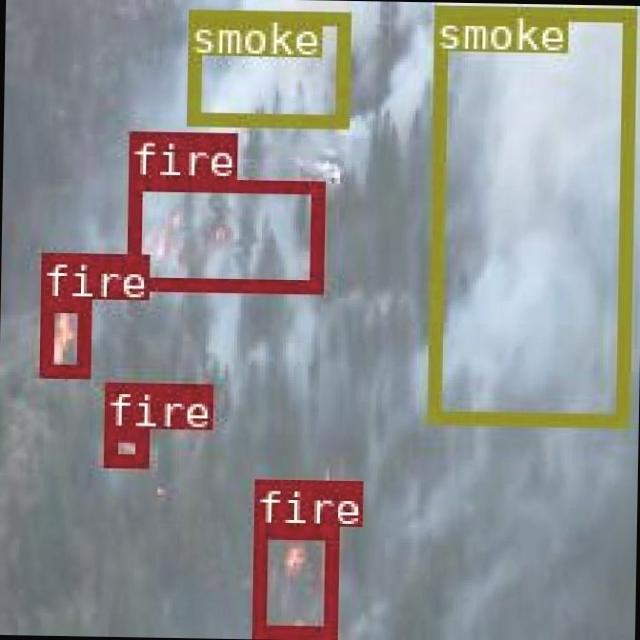fire: (124, 176, 320, 289), (251, 524, 334, 634), (38, 297, 86, 374), (102, 425, 146, 464)
smoke: (426, 3, 632, 424), (185, 8, 346, 126)
